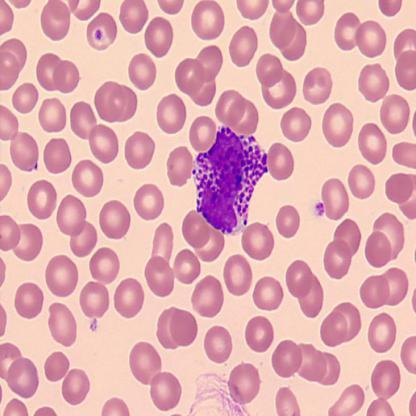Basophil: (189, 122, 270, 238)
